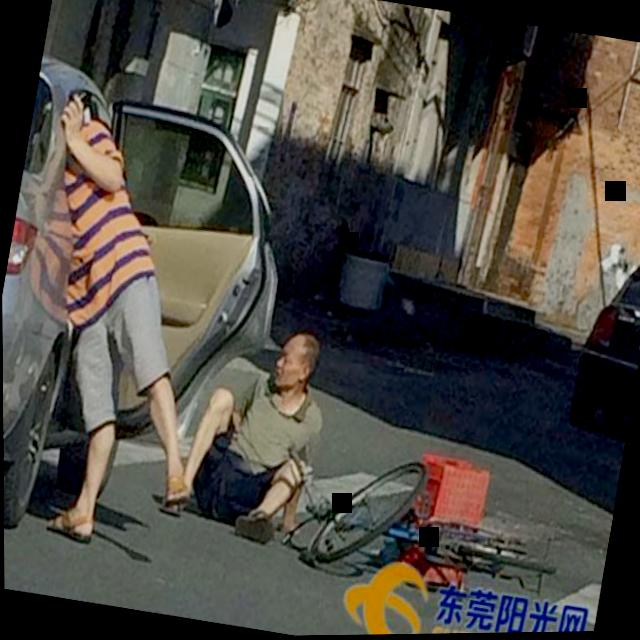Fall-Detected: (151, 296, 347, 556)
